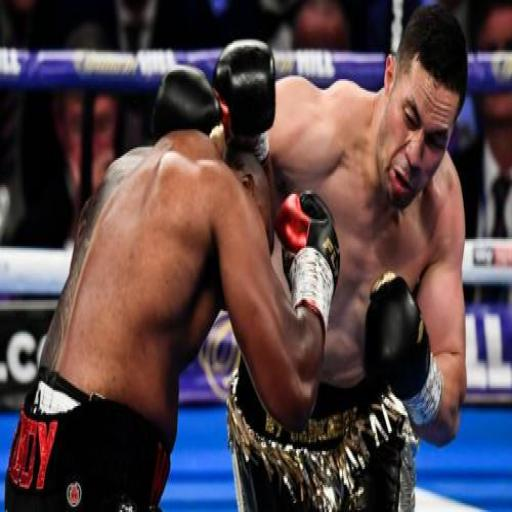boxing: (3, 38, 341, 510), (223, 20, 512, 510)
